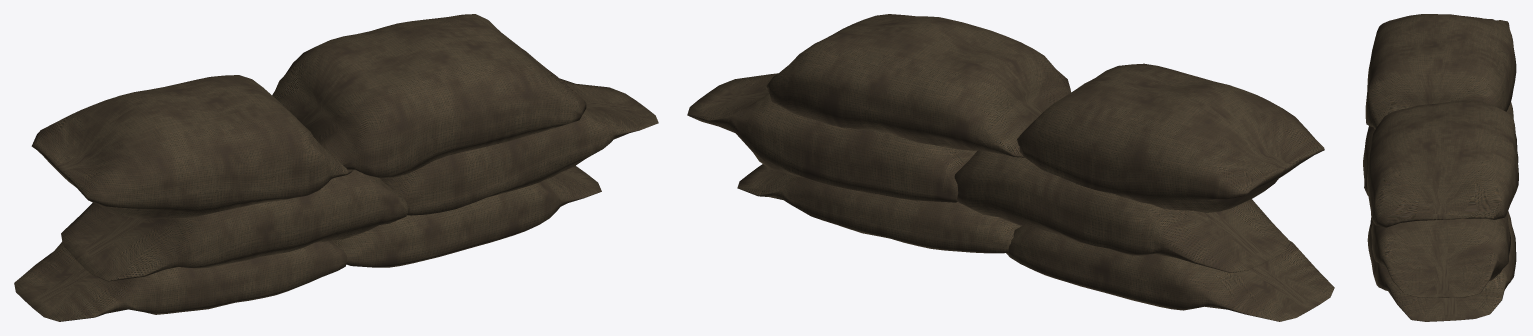
File: S7U_SandbagsL_3L_A.fbx
3 views of the same model, side by side, from view 1: azimuth 30°, elevation 25°; view 2: azimuth 150°, elevation 25°; view 3: azimuth 270°, elevation 25° (orthographic). The views are drawn at different scales.
Parts seen in each view (by area): view 1: S7U_SandbagsL_3L_A; view 2: S7U_SandbagsL_3L_A; view 3: S7U_SandbagsL_3L_A.
Boxes of the visible parts, x1,y1,x2,y2 form: S7U_SandbagsL_3L_A: (14, 14, 658, 321); S7U_SandbagsL_3L_A: (687, 14, 1334, 321); S7U_SandbagsL_3L_A: (1363, 14, 1518, 321).
Bounding box in the file's own units: 2.21 × 0.6397 × 0.6296.
